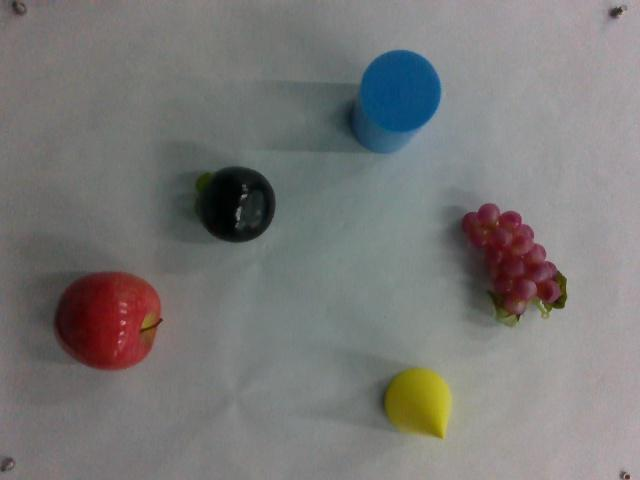apple: (48, 269, 161, 373)
cone: (385, 366, 454, 440)
cylinder: (349, 45, 441, 155)
grape: (461, 200, 569, 325)
mangosteen: (200, 161, 276, 247)
